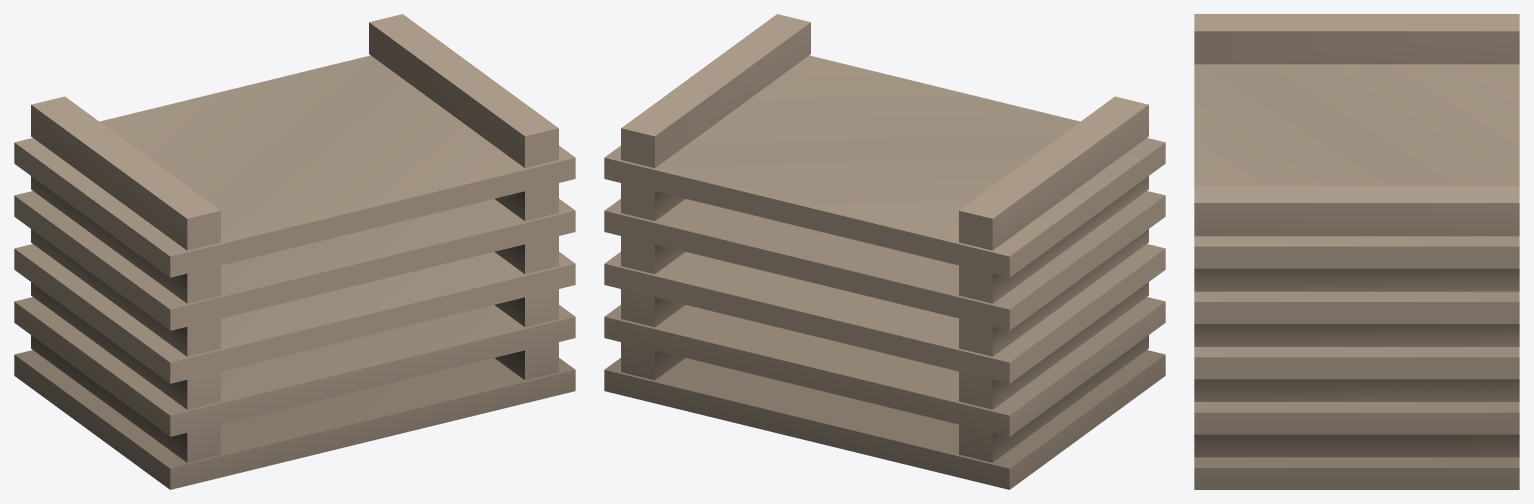
Rendered from pallet_stack.lod2.glb.
3 renders of one model, left to right at view 1: azimuth 30°, elevation 25°; view 2: azimuth 150°, elevation 25°; view 3: azimuth 270°, elevation 25°, orthographic. The views are drawn at different scales.
Visible parts, largest first — view 1: props_pallet_stack.lod2; view 2: props_pallet_stack.lod2; view 3: props_pallet_stack.lod2.
Boxes of the visible parts, x1,y1,x2,y2 form: props_pallet_stack.lod2: (14, 14, 575, 489); props_pallet_stack.lod2: (604, 14, 1165, 489); props_pallet_stack.lod2: (1194, 14, 1519, 489).
Size of the model in its own units: 1.2 by 0.7551 by 0.8.
